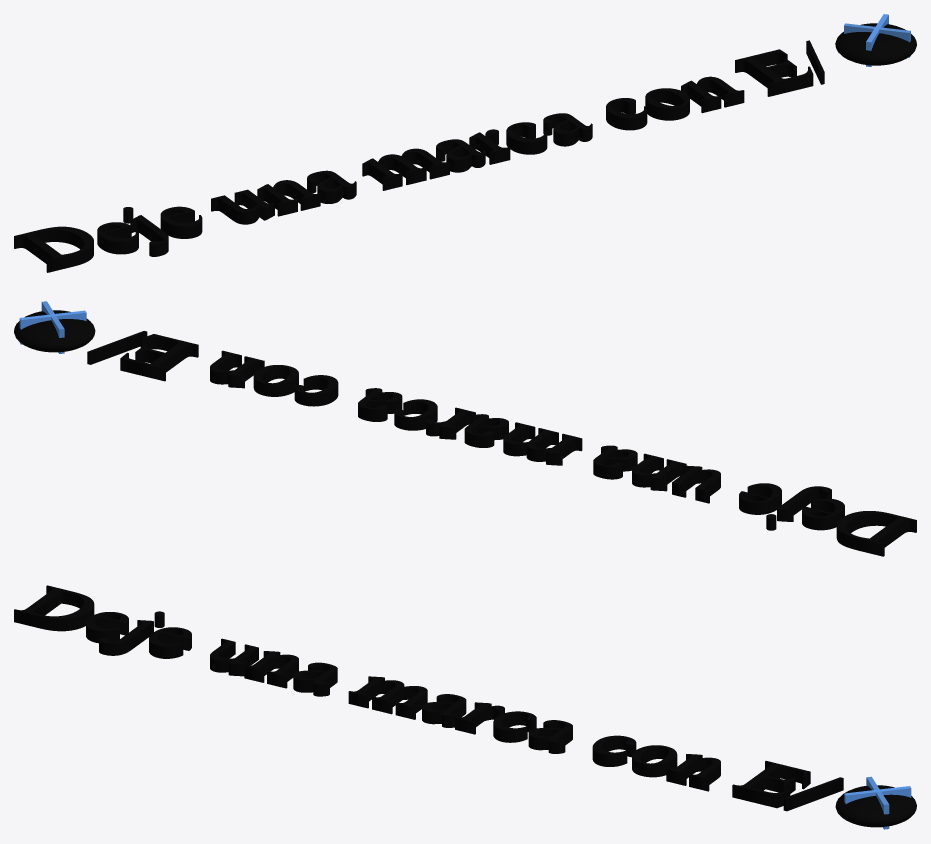
The model's file is Texto5.fbx.
3 views of the same model, one above another, from view 1: azimuth 30°, elevation 25°; view 2: azimuth 150°, elevation 25°; view 3: azimuth 330°, elevation 25° (orthographic).
Parts seen in each view (by area): view 1: Text.001, Sphere; view 2: Text.001, Sphere, Cube; view 3: Text.001, Sphere, Cube.
Part boxes in pixels (x1=…): Text.001: x1=14, y1=40, x2=824, y2=272; Sphere: x1=835, y1=23, x2=916, y2=65; Text.001: x1=87, y1=331, x2=916, y2=556; Sphere: x1=14, y1=310, x2=95, y2=352; Cube: x1=19, y1=310, x2=86, y2=344; Text.001: x1=14, y1=585, x2=843, y2=811; Sphere: x1=835, y1=785, x2=916, y2=827; Cube: x1=844, y1=786, x2=911, y2=803.
Size of the model in its own units: 747 by 22.76 by 72.92.
